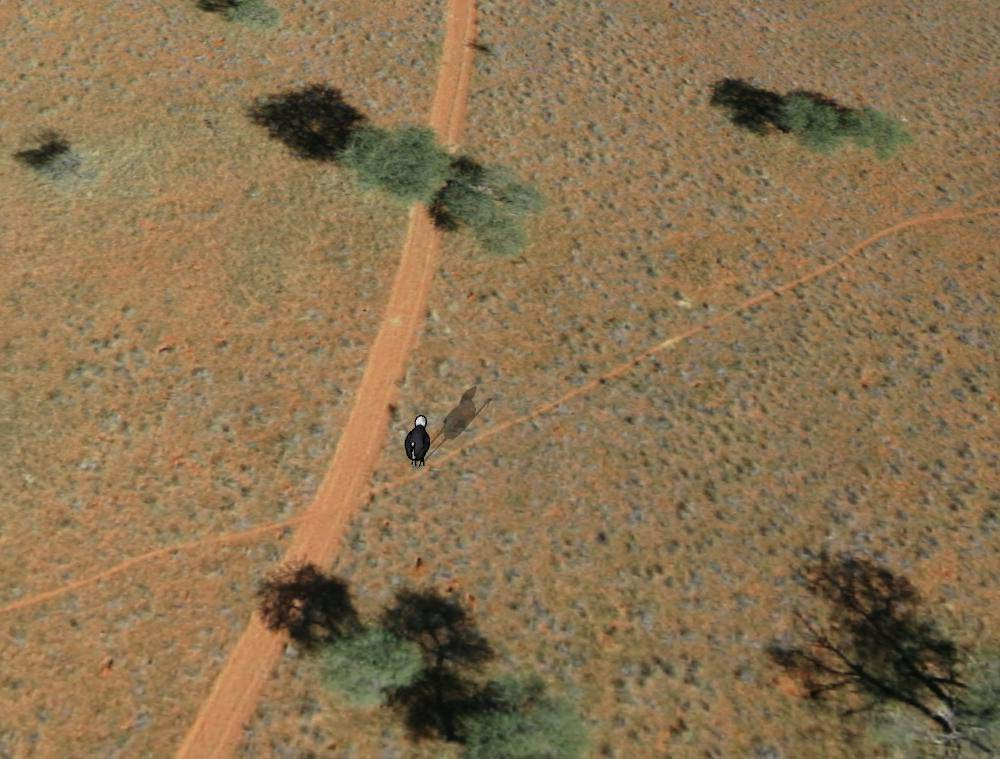ostrich: (399, 415, 439, 469)
